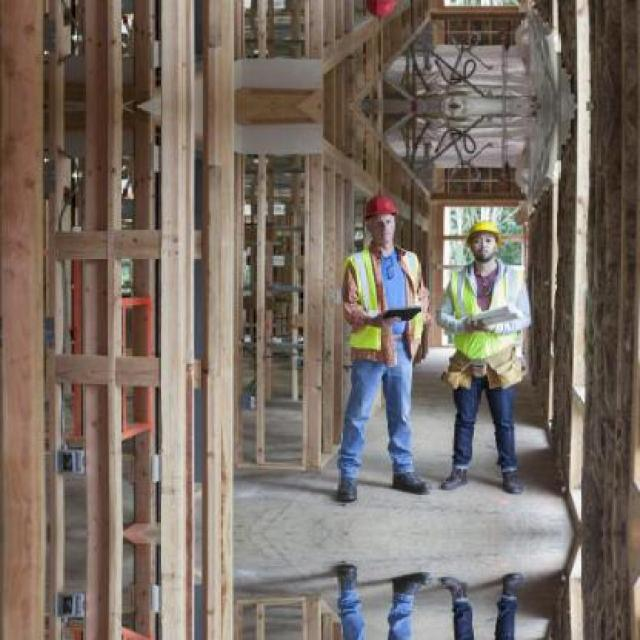helmet: (361, 193, 402, 250), (464, 212, 502, 260), (360, 0, 403, 20)
